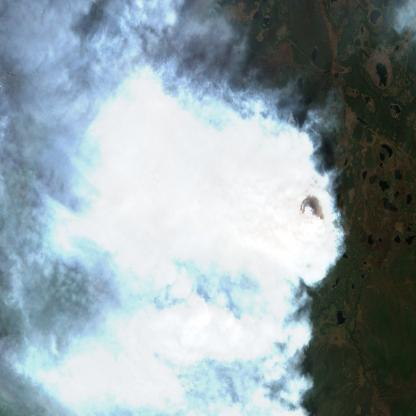fire: (124, 88, 332, 346)
